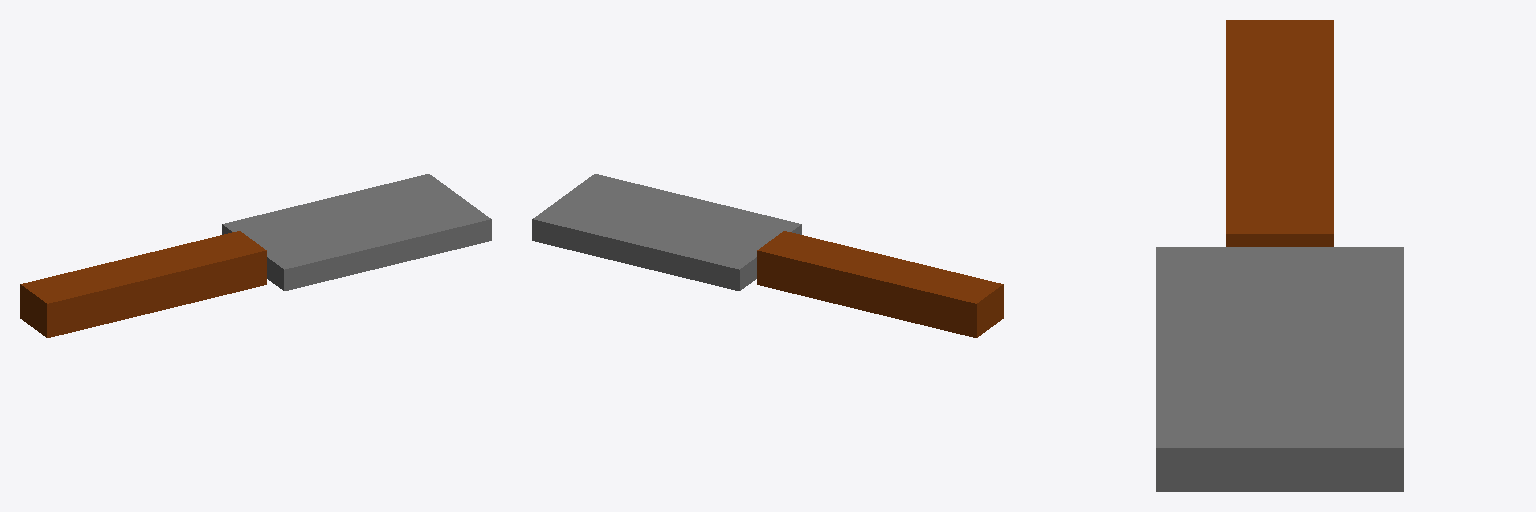
URDF robot description (handle_head):
<?xml version="1.0"?>
<robot name="handle_head">

  <link name="handle_head">
    <!-- Handle -->
    <visual>
              <origin xyz="0 0 0" rpy="0 0 0"/>
        <geometry>
          <box size="0.10568385734635838 0.022523290824096015 0.0158634033746127"/>
        </geometry>
        
      <material name="brown">
        <color rgba="0.55 0.27 0.07 1.0"/>
      </material>
    </visual>
    <collision>
              <origin xyz="0 0 0" rpy="0 0 0"/>
        <geometry>
          <box size="0.10568385734635838 0.022523290824096015 0.0158634033746127"/>
        </geometry>
        
    </collision>

    <!-- Head -->
    <visual>
              <origin xyz="0.10274579660142728 0 0" rpy="0 0 0"/>
        <geometry>
          <box size="0.09980773585649619 0.052000872879213386 0.010030257549402524"/>
        </geometry>
        
      <material name="gray">
        <color rgba="0.5 0.5 0.5 1.0"/>
      </material>
    </visual>
    <collision>
              <origin xyz="0.10274579660142728 0 0" rpy="0 0 0"/>
        <geometry>
          <box size="0.09980773585649619 0.052000872879213386 0.010030257549402524"/>
        </geometry>
        
    </collision>

    <inertial>
      <origin xyz="0.07121516871541074 0 0" rpy="0 0 0"/>
      <mass value="0.041425156794798655"/>
      <inertia ixx="7.5148580555848684e-06" iyy="0.00012919334497365996" izz="0.0001356935788810391" ixy="0" ixz="0" iyz="0"/>
    </inertial>
  </link>

</robot>

--- What the picture shows (computed from the rendered views, not written in the file) ---
The picture shows the robot from 3 angles, left to right: view 1: azimuth 30°, elevation 25°; view 2: azimuth 150°, elevation 25°; view 3: azimuth 270°, elevation 25°; orthographic projection.
Model handle_head with 1 links and 0 joints (none), rooted at handle_head, posed all joints at 0.
Links seen in each view (by area): view 1: handle_head; view 2: handle_head; view 3: handle_head.
Boxes of the visible links, x1,y1,x2,y2 form: handle_head: (20, 174, 491, 337); handle_head: (532, 174, 1003, 337); handle_head: (1156, 20, 1403, 491).
Bounding box of the posed robot: 0.2055 × 0.052 × 0.0159 m (x, y, z).
Geometry: primitives only (box / cylinder / sphere), no mesh files.
